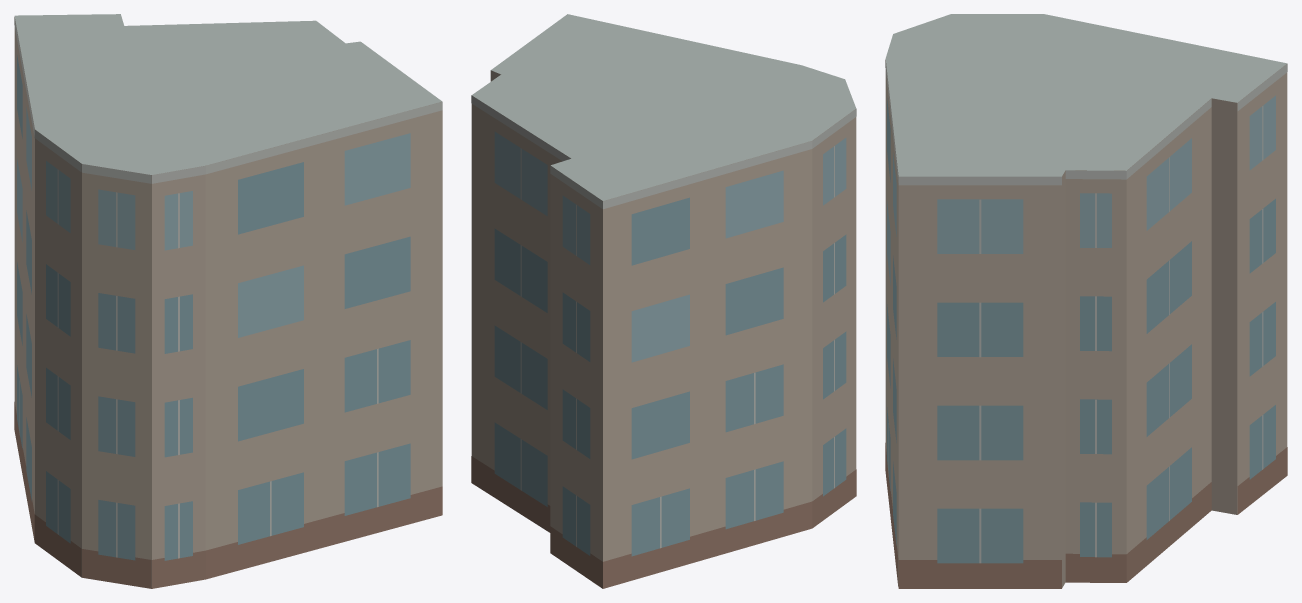
File: survey-upis-33031999.glb
3 views of the same model, side by side, from view 1: azimuth 30°, elevation 25°; view 2: azimuth 150°, elevation 25°; view 3: azimuth 270°, elevation 25° (orthographic). The views are drawn at different scales.
Visible parts, largest first — view 1: survey-upis-33031999.tmp; view 2: survey-upis-33031999.tmp; view 3: survey-upis-33031999.tmp.
Boxes of the visible parts, x1,y1,x2,y2 form: survey-upis-33031999.tmp: (14, 14, 442, 588); survey-upis-33031999.tmp: (471, 14, 856, 588); survey-upis-33031999.tmp: (885, 14, 1287, 588).
Bounding box in the file's own units: 9.75 × 11.5 × 10.17.
